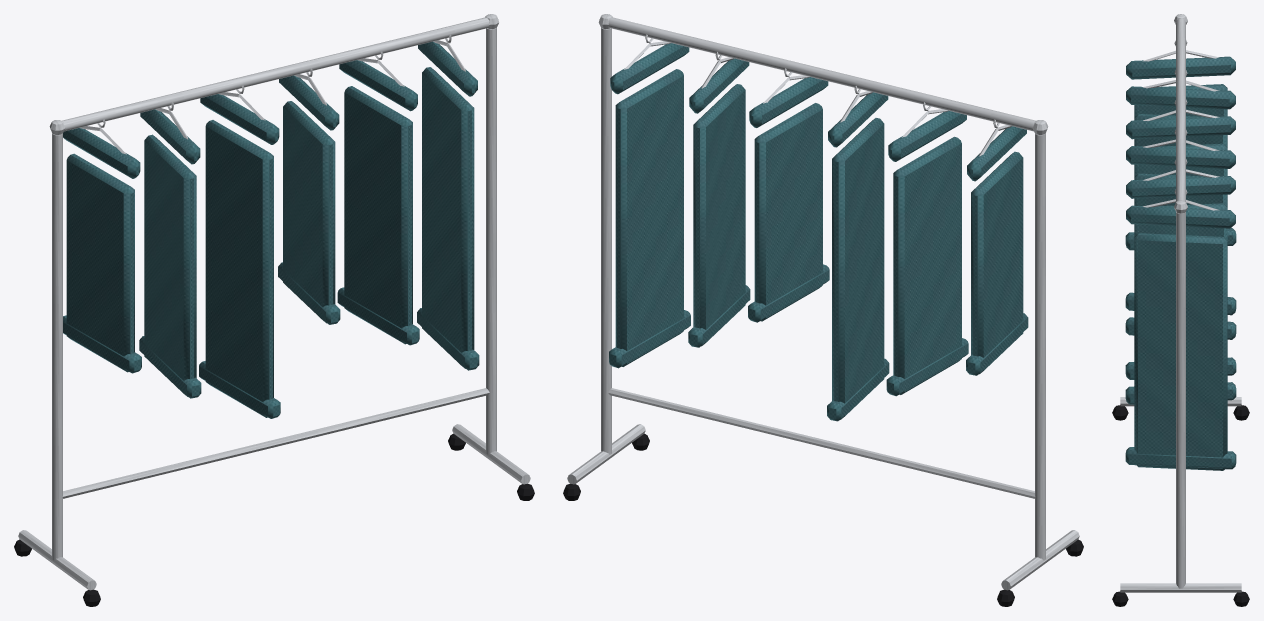
File: arara-16-6.glb
3 views of the same model, side by side, from view 1: azimuth 30°, elevation 25°; view 2: azimuth 150°, elevation 25°; view 3: azimuth 270°, elevation 25° (orthographic). The views are drawn at different scales.
Parts seen in each view (by area): view 1: corpo.002, corpo.004, corpo.005, corpo, corpo.001, corpo.003, varao, coluna, coluna.001, travessa, ombros.002, ombros.004 (+12 smaller); view 2: corpo.005, corpo.001, corpo.002, corpo.003, corpo.004, corpo, varao, coluna, coluna.001, travessa, ombros.005, ombros.003 (+12 smaller); view 3: corpo.005, coluna.001, ombros, ombros.001, ombros.005, ombros.003, ombros.002, ombros.004, varao, barra.005, pe.001, corpo.004 (+10 smaller).
Boxes of the visible parts, x1,y1,x2,y2 form: corpo.002: (205, 120, 273, 417); corpo.004: (344, 86, 412, 344); corpo.005: (422, 67, 474, 368); corpo: (66, 153, 134, 372); corpo.001: (144, 134, 196, 396); corpo.003: (283, 101, 335, 323); varao: (62, 17, 489, 131); coluna: (52, 133, 62, 560); coluna.001: (486, 27, 496, 454); travessa: (62, 388, 489, 498); ombros.002: (200, 94, 279, 144); ombros.004: (339, 60, 417, 111); corpo.005: (615, 69, 683, 366); corpo.001: (893, 136, 961, 394); corpo.002: (832, 118, 884, 419); corpo.003: (754, 103, 822, 321); corpo.004: (693, 84, 745, 346); corpo: (971, 151, 1023, 374); varao: (608, 17, 1035, 131); coluna: (1035, 133, 1045, 560); coluna.001: (601, 27, 611, 454); travessa: (608, 388, 1035, 498); ombros.005: (610, 43, 689, 94); ombros.003: (749, 77, 828, 127); corpo.005: (1134, 233, 1227, 470); coluna.001: (1176, 212, 1185, 588); ombros: (1126, 56, 1235, 79); ombros.001: (1126, 86, 1235, 109); ombros.005: (1126, 205, 1235, 228); ombros.003: (1126, 146, 1235, 168); ombros.002: (1126, 116, 1235, 139); ombros.004: (1126, 176, 1235, 198); varao: (1176, 18, 1185, 201); barra.005: (1125, 447, 1236, 469); pe.001: (1120, 583, 1241, 592); corpo.004: (1134, 203, 1227, 240).
Size of the model in its own units: 1.66 by 1.63 by 0.5.
Materials: 3 (2 with a texture image).
